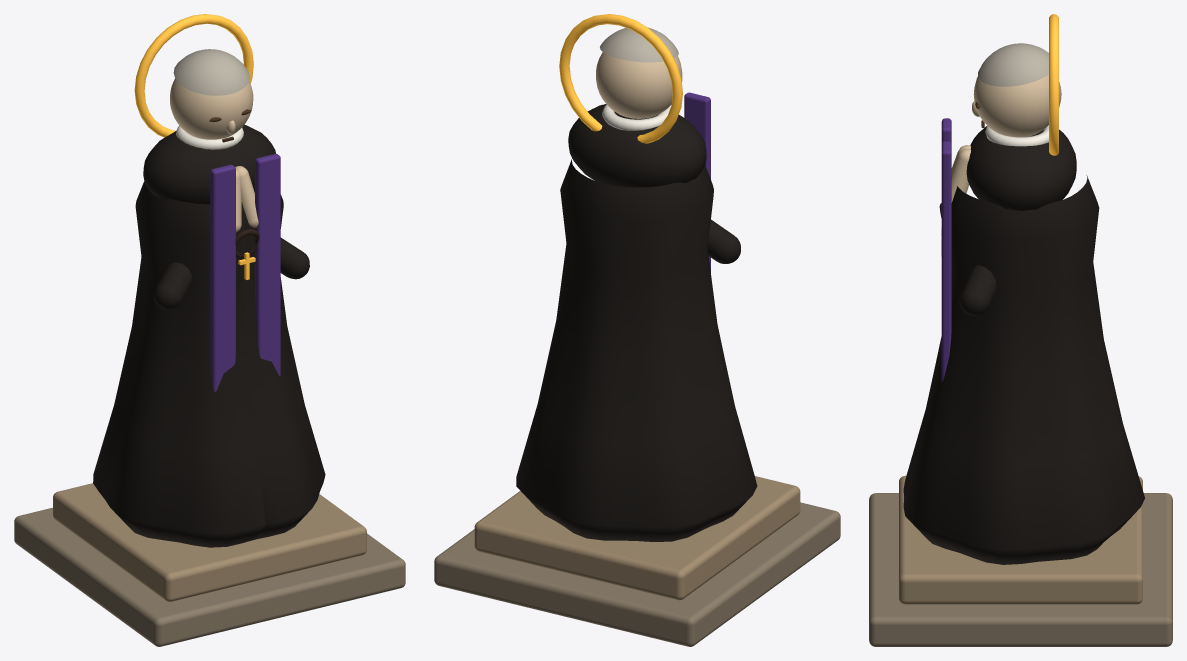
The model's file is statue-vianney.glb.
3 views of the same model, side by side, from view 1: azimuth 30°, elevation 25°; view 2: azimuth 150°, elevation 25°; view 3: azimuth 270°, elevation 25° (orthographic). The views are drawn at different scales.
Parts seen in each view (by area): view 1: Robe, PlinthLow, PlinthTop, Stole (×2), Shoulders, Head, Hair, object 20, Arm (×2), Hand, object 6; view 2: Robe, PlinthLow, PlinthTop, Shoulders, Head, object 20, Hair, Stole, Arm, object 6; view 3: Robe, PlinthLow, PlinthTop, Shoulders, Head, Stole, Hair, object 20, Arm, object 6, Hand.
Boxes of the visible parts, box(x1,y1,x2,y2) form: Robe: box(93, 181, 325, 547); PlinthLow: box(14, 507, 405, 646); PlinthTop: box(53, 483, 366, 601); Stole (×2): box(210, 153, 280, 391); Shoulders: box(143, 125, 275, 204); Head: box(170, 78, 253, 139); Hair: box(173, 49, 249, 95); object 20: box(134, 14, 253, 137); Arm (×2): box(153, 237, 309, 309); Hand: box(235, 166, 258, 227); object 6: box(176, 125, 243, 149); Robe: box(516, 158, 757, 541); PlinthLow: box(434, 502, 840, 646); PlinthTop: box(474, 476, 800, 600); Shoulders: box(568, 104, 706, 187); Head: box(596, 52, 682, 118); object 20: box(559, 14, 682, 143); Hair: box(600, 27, 678, 62); Stole: box(684, 92, 710, 272); Arm: box(707, 219, 740, 263); object 6: box(602, 104, 670, 130); Robe: box(903, 175, 1144, 564); PlinthLow: box(869, 493, 1172, 646); PlinthTop: box(899, 475, 1142, 604); Shoulders: box(966, 126, 1076, 210); Head: box(973, 74, 1061, 137); Stole: box(941, 141, 951, 381); Hair: box(978, 43, 1048, 86); object 20: box(1049, 14, 1058, 155); Arm: box(959, 265, 996, 316); object 6: box(985, 125, 1048, 146); Hand: box(951, 149, 970, 202).
Bounding box in the file's own units: 0.92 × 1.89 × 0.92.
